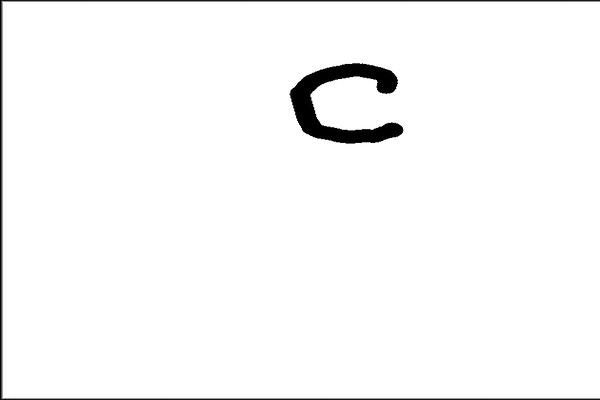C: (283, 59, 409, 146)
